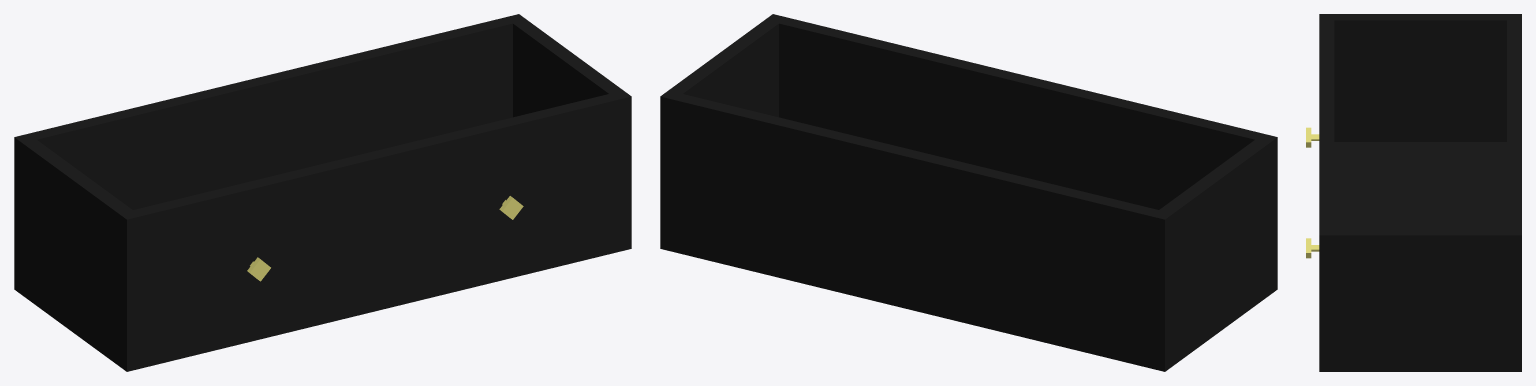
File: Itr_Wardrobe1_Drawer_03.FBX
3 renders of one model, left to right at view 1: azimuth 30°, elevation 25°; view 2: azimuth 150°, elevation 25°; view 3: azimuth 270°, elevation 25°, orthographic. The views are drawn at different scales.
Parts seen in each view (by area): view 1: Itr_Wardrobe1_Drawer_03; view 2: Itr_Wardrobe1_Drawer_03; view 3: Itr_Wardrobe1_Drawer_03.
Part boxes in pixels (bbox=[...]): Itr_Wardrobe1_Drawer_03: bbox=[14, 14, 631, 371]; Itr_Wardrobe1_Drawer_03: bbox=[660, 14, 1277, 371]; Itr_Wardrobe1_Drawer_03: bbox=[1306, 14, 1521, 371].
Bounding box in the file's own units: 40.74 × 11.75 × 16.8.
